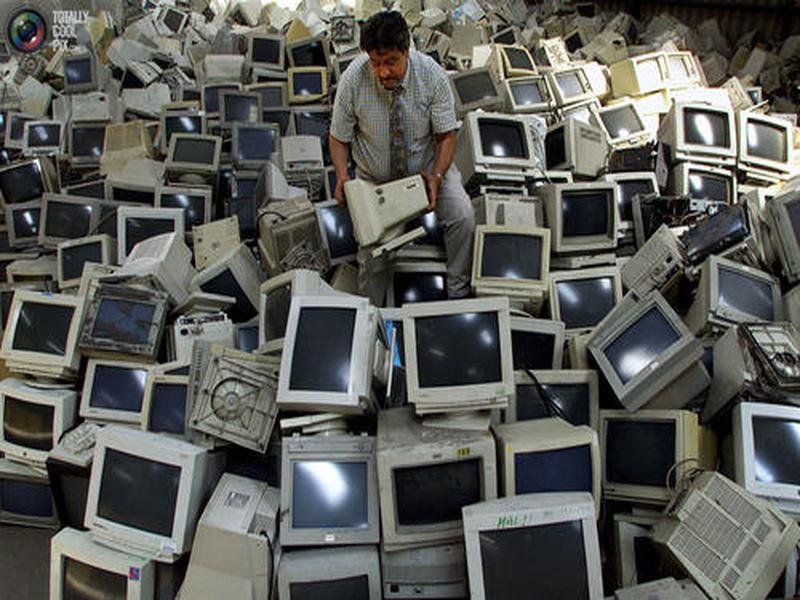tv_pc: (80, 427, 220, 565), (270, 279, 402, 421), (375, 410, 500, 552), (397, 294, 521, 437), (457, 487, 610, 600), (587, 295, 717, 414), (275, 425, 388, 555), (598, 405, 717, 507), (2, 286, 87, 381), (1, 377, 80, 476), (467, 221, 556, 306), (545, 179, 628, 269), (454, 104, 542, 185), (77, 358, 153, 431), (657, 102, 738, 169), (588, 94, 657, 154), (37, 191, 107, 244), (163, 130, 230, 184), (227, 117, 288, 172), (19, 115, 72, 161), (283, 60, 331, 105)
